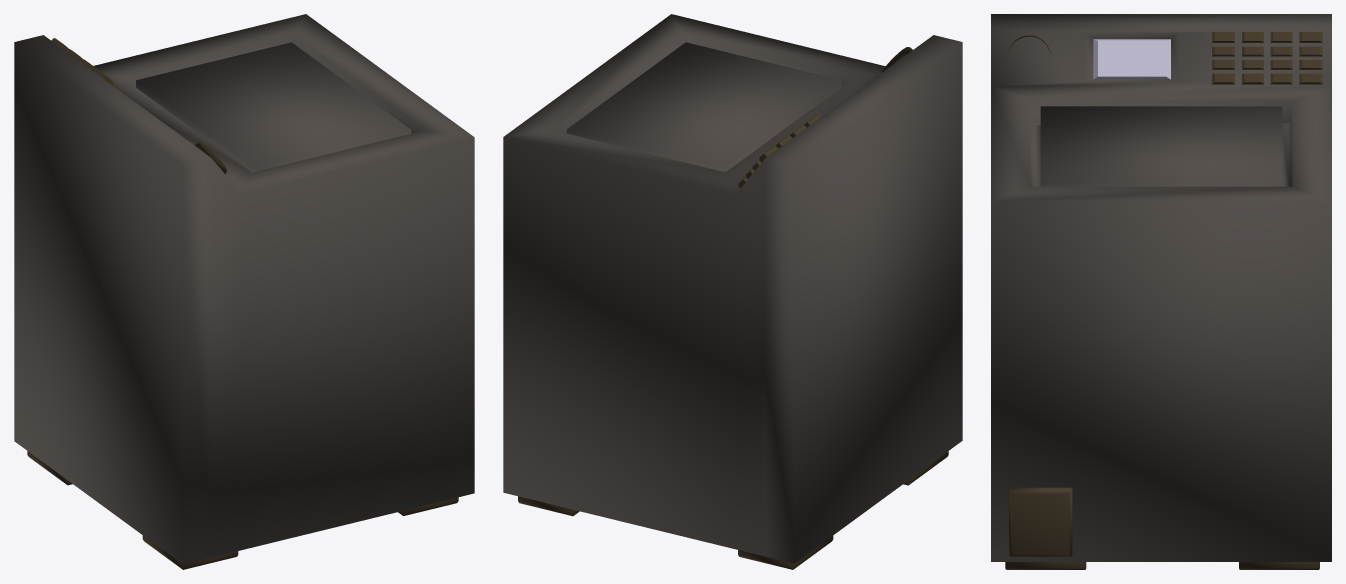
Rendered from Washing Machine.glb.
The picture shows the model from 3 angles, left to right: view 1: azimuth 30°, elevation 25°; view 2: azimuth 150°, elevation 25°; view 3: azimuth 270°, elevation 25°; orthographic projection.
Parts seen in each view (by area): view 1: Core_body, Legs; view 2: Core_body, Legs; view 3: Core_body, Detail, Buttons, Screen, Legs.
Boxes of the visible parts, left/top/right/bottom form: Core_body: left=14, top=14, right=474, bottom=564; Legs: left=27, top=451, right=458, bottom=569; Core_body: left=503, top=14, right=962, bottom=563; Legs: left=518, top=451, right=948, bottom=569; Core_body: left=991, top=14, right=1331, bottom=561; Detail: left=1009, top=487, right=1072, bottom=556; Buttons: left=1212, top=32, right=1322, bottom=84; Screen: left=1093, top=39, right=1170, bottom=79; Legs: left=1005, top=562, right=1319, bottom=569.
Size of the model in its own units: 2.05 by 2.71 by 2.
